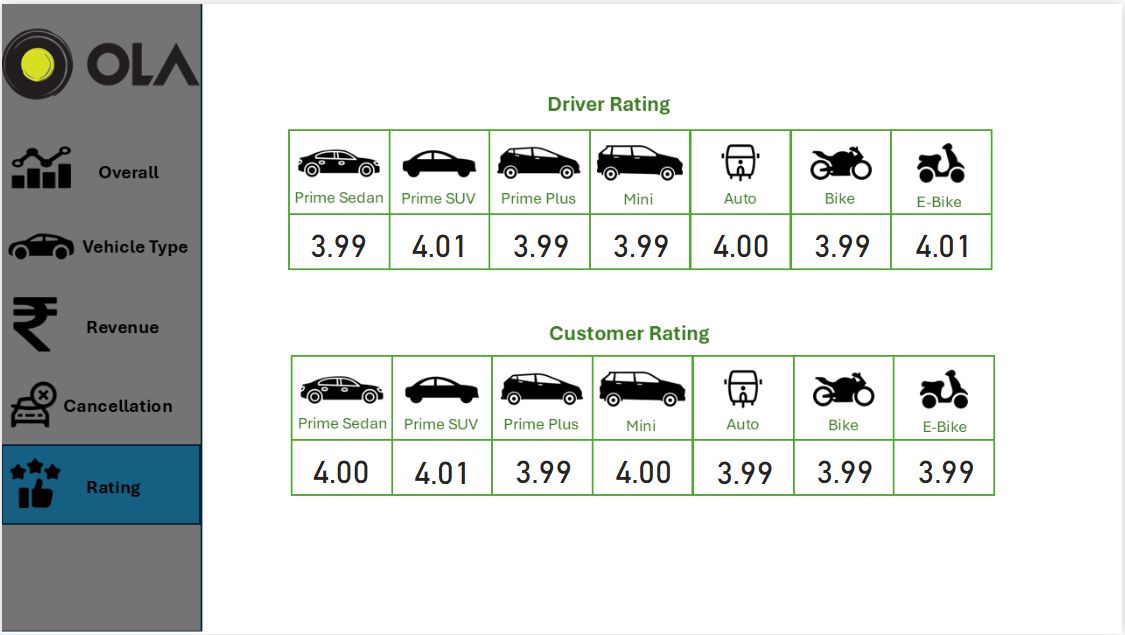

The page's visual inventory and layout, read from the dashboard file:
{"tool":"powerbi","page":{"name":"Ratings","canvas":[1280,720],"ordinal":4},"visuals":[{"type":"actionButton","box":[0,231.9,229.2,86.4],"z":0},{"type":"actionButton","box":[0,146.8,229.2,86.4],"z":1000},{"type":"actionButton","box":[0,328,229.2,85.1],"z":2000},{"type":"actionButton","box":[0,413,229.2,85.1],"z":3000},{"type":"card","title":"Total Booking Value","fields":{"Values":["Avg(Cleaned_ola_booking_data.Driver_Ratings)"]},"box":[327.3,241.4,115.5,63.2],"z":4000},{"type":"card","title":"Total Booking Value","fields":{"Values":["Avg(Cleaned_ola_booking_data.Driver_Ratings)"]},"box":[442.7,241.8,115.5,63.2],"z":5000},{"type":"card","title":"Total Booking Value","fields":{"Values":["Avg(Cleaned_ola_booking_data.Driver_Ratings)"]},"box":[558.2,241.4,115.5,63.2],"z":6000},{"type":"card","title":"Total Booking Value","fields":{"Values":["Avg(Cleaned_ola_booking_data.Driver_Ratings)"]},"box":[672.3,241.4,115.5,63.2],"z":7000},{"type":"card","title":"Total Booking Value","fields":{"Values":["Avg(Cleaned_ola_booking_data.Driver_Ratings)"]},"box":[787.7,241.8,115.5,63.2],"z":8000},{"type":"card","title":"Total Booking Value","fields":{"Values":["Avg(Cleaned_ola_booking_data.Driver_Ratings)"]},"box":[903.2,241.4,115.5,63.2],"z":9000},{"type":"card","title":"Total Booking Value","fields":{"Values":["Avg(Cleaned_ola_booking_data.Driver_Ratings)"]},"box":[1018.8,241.2,115.6,63.1],"z":10000},{"type":"card","title":"Total Booking Value","fields":{"Values":["Avg(Cleaned_ola_booking_data.Customer_Rating)"]},"box":[330.3,500.4,115.5,63.2],"z":11000},{"type":"card","title":"Total Booking Value","fields":{"Values":["Avg(Cleaned_ola_booking_data.Customer_Rating)"]},"box":[445.7,500.8,115.5,63.2],"z":12000},{"type":"card","title":"Total Booking Value","fields":{"Values":["Avg(Cleaned_ola_booking_data.Customer_Rating)"]},"box":[561.2,500.4,115.5,63.2],"z":13000},{"type":"card","title":"Total Booking Value","fields":{"Values":["Avg(Cleaned_ola_booking_data.Customer_Rating)"]},"box":[675.3,500.4,115.5,63.2],"z":14000},{"type":"card","title":"Total Booking Value","fields":{"Values":["Avg(Cleaned_ola_booking_data.Customer_Rating)"]},"box":[790.7,500.8,115.5,63.2],"z":15000},{"type":"card","title":"Total Booking Value","fields":{"Values":["Avg(Cleaned_ola_booking_data.Customer_Rating)"]},"box":[906.2,500.4,115.5,63.2],"z":16000},{"type":"card","title":"Total Booking Value","fields":{"Values":["Avg(Cleaned_ola_booking_data.Customer_Rating)"]},"box":[1021.8,500.3,115.6,63.1],"z":17000}]}

Visuals, with their boxes on the page's 1280x720 design canvas (x1, y1, x2, y2). These are canvas units, not pixel positions in the 1125x635 screenshot, which may show the page scaled, cropped or inside an application window:
actionButton: <box>0,232,229,318</box>
actionButton: <box>0,147,229,233</box>
actionButton: <box>0,328,229,413</box>
actionButton: <box>0,413,229,498</box>
"Total Booking Value" card: <box>327,241,443,305</box>
"Total Booking Value" card: <box>443,242,558,305</box>
"Total Booking Value" card: <box>558,241,674,305</box>
"Total Booking Value" card: <box>672,241,788,305</box>
"Total Booking Value" card: <box>788,242,903,305</box>
"Total Booking Value" card: <box>903,241,1019,305</box>
"Total Booking Value" card: <box>1019,241,1134,304</box>
"Total Booking Value" card: <box>330,500,446,564</box>
"Total Booking Value" card: <box>446,501,561,564</box>
"Total Booking Value" card: <box>561,500,677,564</box>
"Total Booking Value" card: <box>675,500,791,564</box>
"Total Booking Value" card: <box>791,501,906,564</box>
"Total Booking Value" card: <box>906,500,1022,564</box>
"Total Booking Value" card: <box>1022,500,1137,563</box>
